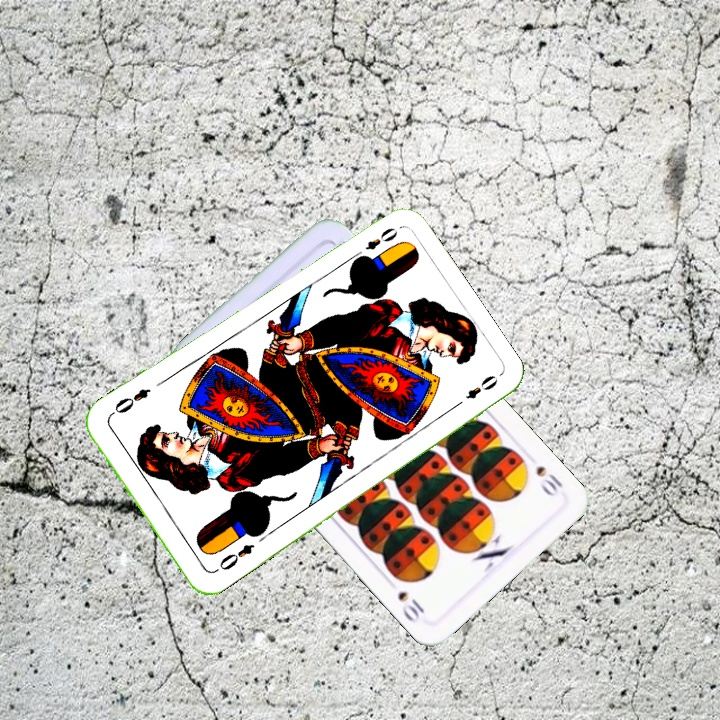EO: (348, 223, 401, 263), (210, 540, 257, 575)
S10: (532, 461, 566, 500)
